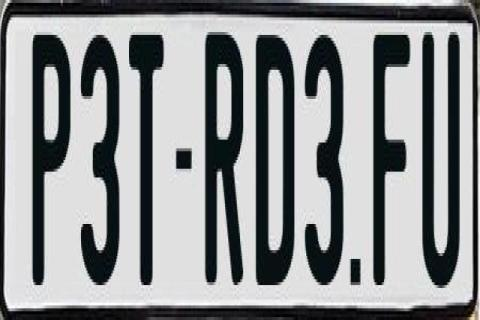0: (80, 35, 121, 291), (303, 35, 343, 291)
D: (255, 29, 295, 285)
F: (372, 26, 410, 282)
P: (30, 26, 69, 291)
R: (201, 32, 240, 302)
T: (126, 26, 165, 291)
U: (422, 26, 462, 282)
